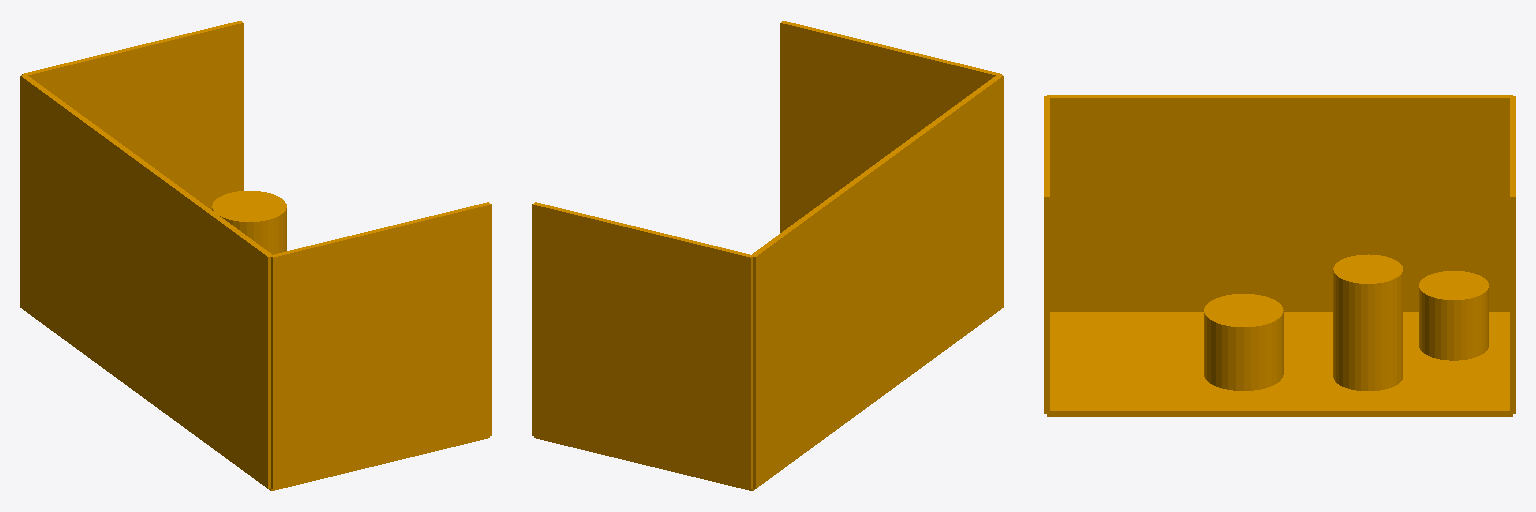
robot.urdf — syn_can_cabinet_2813:
<?xml version="1.0" ?>
<robot name="syn_can_cabinet_2813">
    <link concave="yes" name="base_link">
        <inertial>
            <origin rpy="0 0 0" xyz="0 0 0"/>
            <mass value="0.0"/>
            <inertia ixx="1e-08" ixy="0" ixz="0" iyy="1e-08" iyz="0" izz="1e-08"/>
        </inertial>
        <visual>
            <origin xyz="0 0 0" rpy="0 0 0" />
            <geometry>
                <mesh filename="syn_can_cabinet_2813.obj" scale="1.000000 1.000000 1.000000"/>
            </geometry>         
        </visual>

        <collision concave="yes">
            <origin xyz="0 0 0" rpy="0 0 0"/>
            <geometry>
                <mesh filename="syn_can_cabinet_2813.obj" scale="1.000000 1.000000 1.000000"/>
            </geometry>
        </collision>
    </link>
</robot>
    

--- Render facts (derived) ---
Views: 3 orthographic renders of the robot side by side, from view 1: azimuth 30°, elevation 25°; view 2: azimuth 150°, elevation 25°; view 3: azimuth 270°, elevation 25°.
Robot: syn_can_cabinet_2813 — 1 links, 0 joints (none); root link base_link; default pose: all joints at 0.
Visible links, largest first — view 1: base_link; view 2: base_link; view 3: base_link.
Link boxes in pixels (x1=…): base_link: x1=20, y1=21, x2=491, y2=490; base_link: x1=532, y1=21, x2=1003, y2=490; base_link: x1=1044, y1=95, x2=1515, y2=416.
Bounding box of the posed robot: 0.1875 × 0.3679 × 0.1899 m (x, y, z).
Meshes: 1 distinct files referenced, 1 mesh visuals loaded (1 OBJ).
